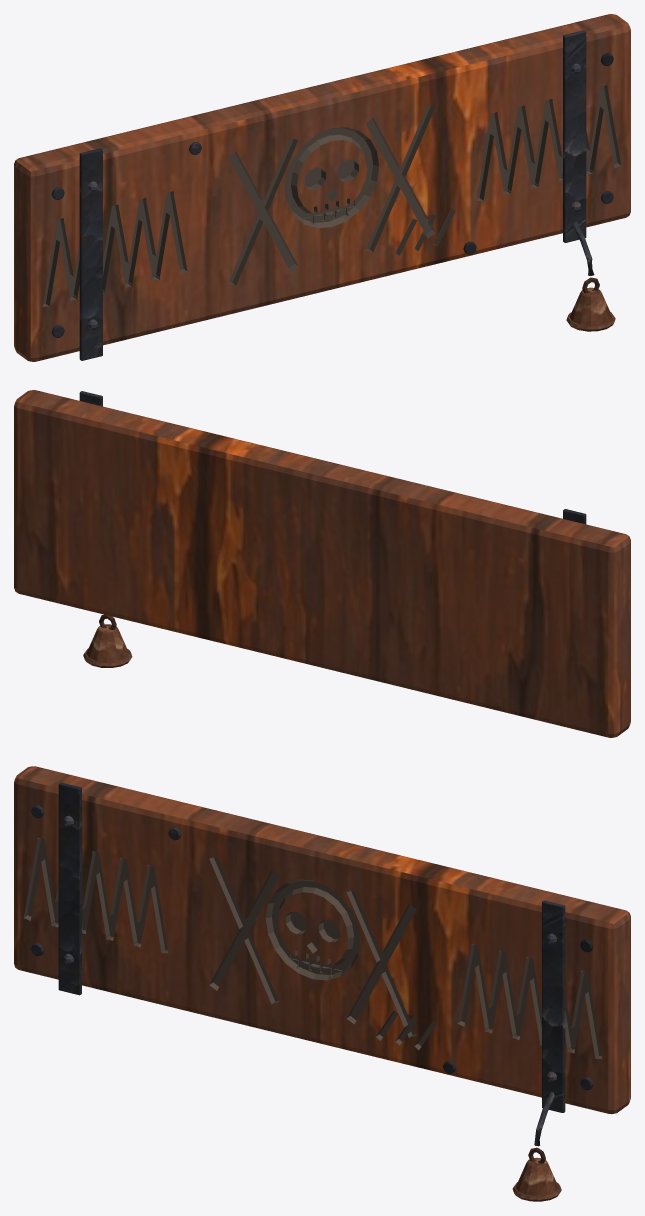
Rendered from op_warning_plank.glb.
The picture shows the model from 3 angles, top to bottom: view 1: azimuth 30°, elevation 25°; view 2: azimuth 150°, elevation 25°; view 3: azimuth 330°, elevation 25°; orthographic projection.
Parts seen in each view (by area): view 1: model; view 2: model; view 3: model.
Boxes of the visible parts, x1,y1,x2,y2 form: model: [14, 14, 630, 361]; model: [14, 390, 630, 737]; model: [14, 766, 630, 1201].
Size of the model in its own units: 1.1 by 0.497 by 0.153.
6 materials, 5 textured.
